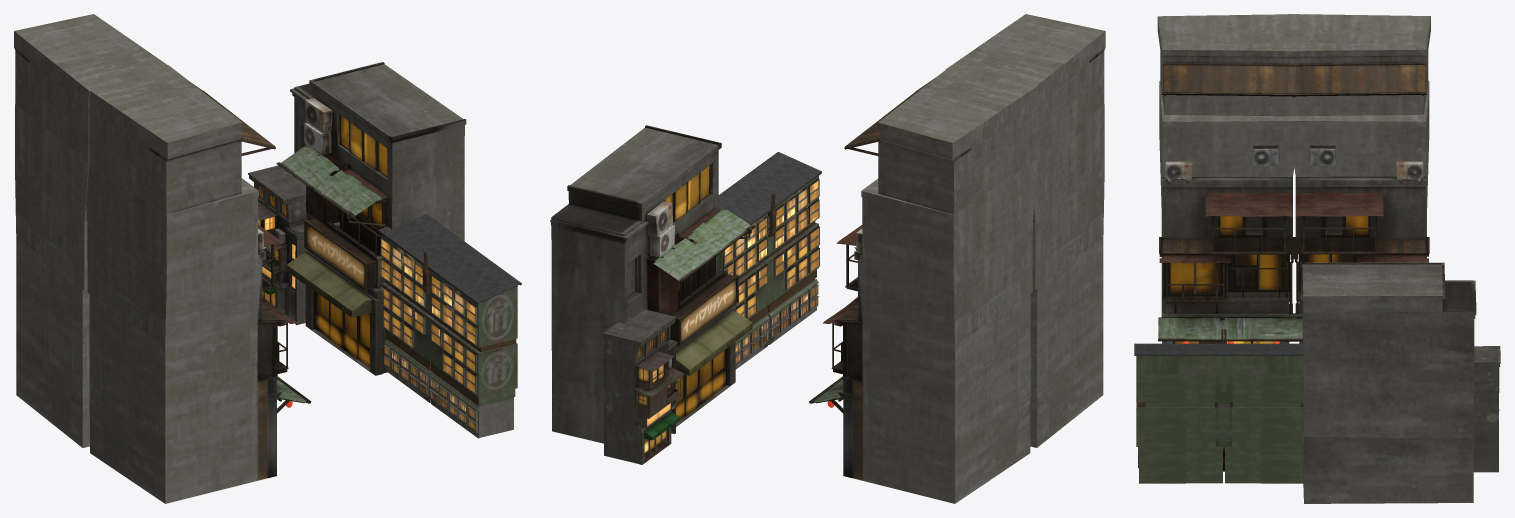
The model's file is shop 001.fbx.
The picture shows the model from 3 angles, left to right: view 1: azimuth 30°, elevation 25°; view 2: azimuth 150°, elevation 25°; view 3: azimuth 270°, elevation 25°; orthographic projection. The views are drawn at different scales.
Parts seen in each view (by area): view 1: GFX_5_sdfdv; view 2: GFX_5_sdfdv; view 3: GFX_5_sdfdv.
Boxes of the visible parts, x1,y1,x2,y2 form: GFX_5_sdfdv: (14, 14, 521, 503); GFX_5_sdfdv: (550, 14, 1105, 503); GFX_5_sdfdv: (1134, 14, 1500, 503).
Size of the model in its own units: 1882 by 1696 by 1744.
